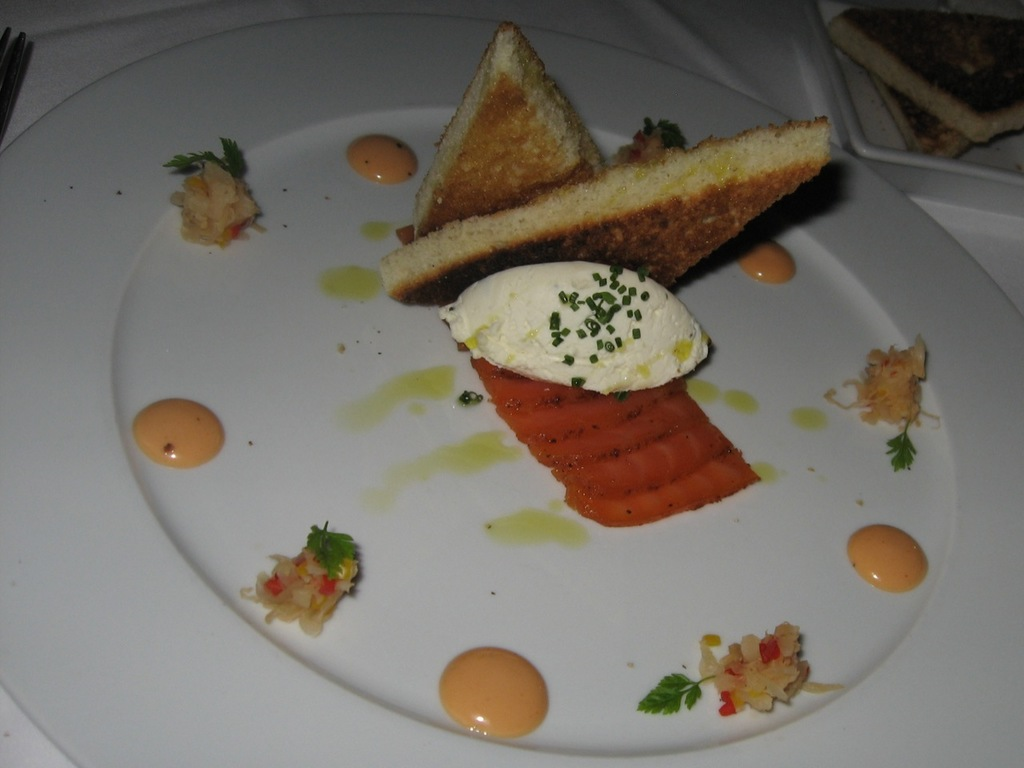plate: (40, 66, 1023, 767)
